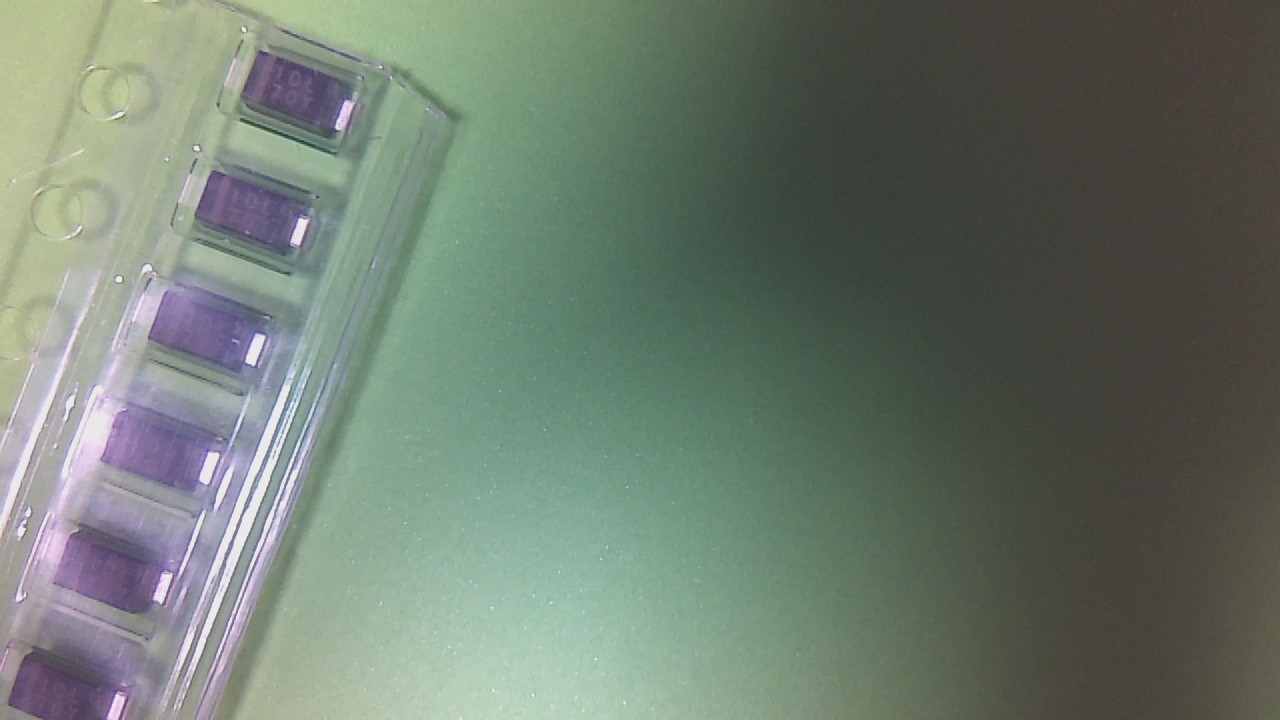Diode: (192, 178, 321, 263), (243, 55, 359, 147), (99, 412, 222, 498), (58, 536, 181, 620), (149, 296, 271, 371), (9, 655, 131, 720)
